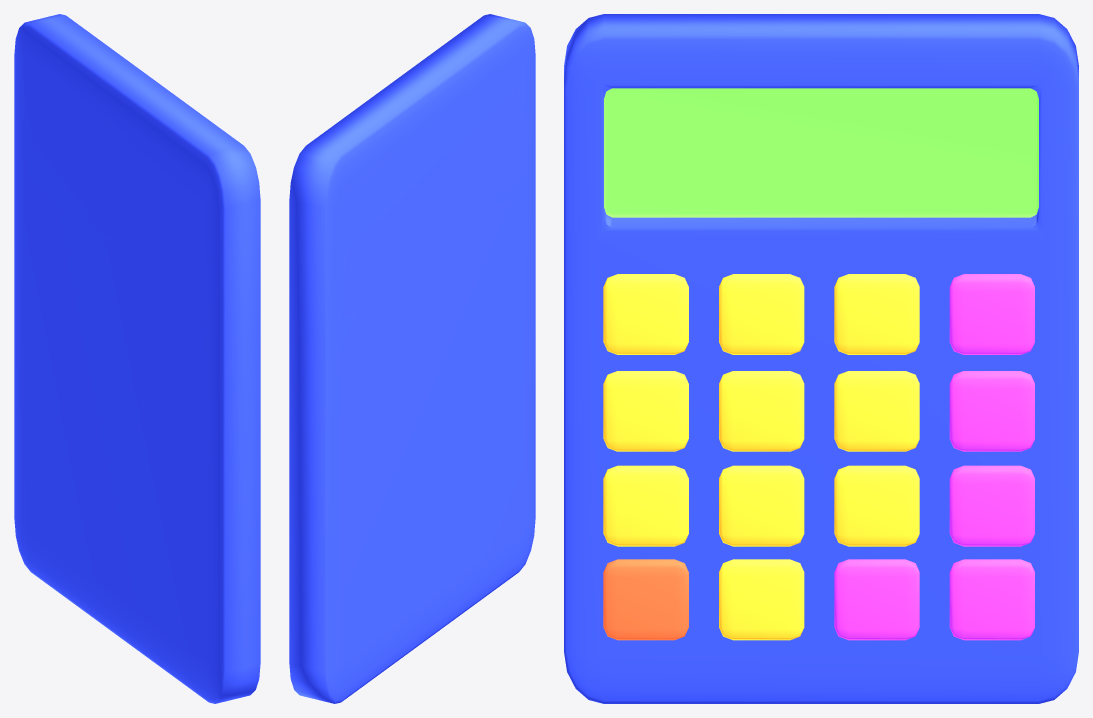
Rendered from calculator.fbx.
3 renders of one model, left to right at view 1: azimuth 30°, elevation 25°; view 2: azimuth 150°, elevation 25°; view 3: azimuth 270°, elevation 25°, orthographic. The views are drawn at different scales.
Parts seen in each view (by area): view 1: Cube; view 2: Cube; view 3: Cube, Cube.014, Cube.009, Cube.010, Cube.013, Cube.015, Cube.011, Cube.012, Cube.016, Cube.003, Cube.004, Cube.007 (+5 smaller).
Part boxes in pixels (bbox=[...]): Cube: bbox=[14, 14, 260, 703]; Cube: bbox=[289, 14, 535, 703]; Cube: bbox=[564, 14, 1078, 703]; Cube.014: bbox=[603, 559, 688, 640]; Cube.009: bbox=[719, 465, 804, 546]; Cube.010: bbox=[603, 465, 688, 546]; Cube.013: bbox=[719, 559, 804, 640]; Cube.015: bbox=[834, 559, 919, 640]; Cube.011: bbox=[834, 465, 919, 546]; Cube.012: bbox=[949, 465, 1034, 546]; Cube.016: bbox=[949, 559, 1034, 640]; Cube.003: bbox=[834, 274, 919, 354]; Cube.004: bbox=[949, 274, 1034, 354]; Cube.007: bbox=[834, 371, 919, 451].
Bounding box in the file's own units: 78.52 × 817 × 570.
